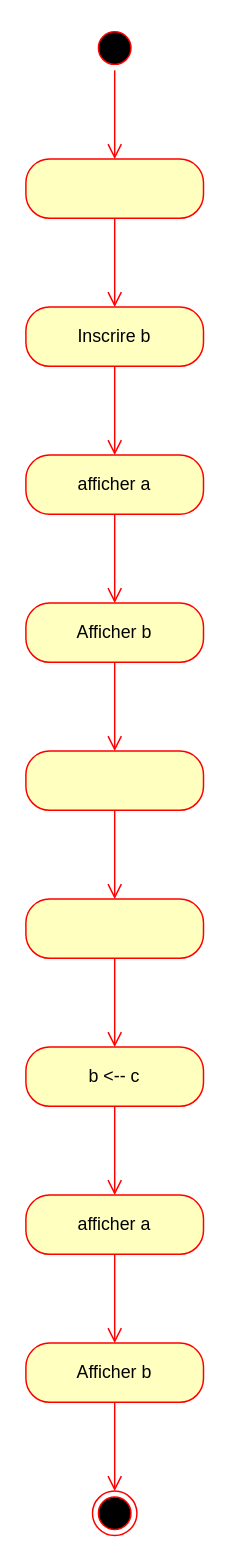
Image size: 229x1561. Some labels were removed from this diagram. The box of each missing label's shape, as (x1, y1, x2, y2) in pixels:
a <-- b: (24, 898, 204, 958)
c <-- a: (24, 750, 204, 810)
Inscrire a: (24, 158, 204, 218)
